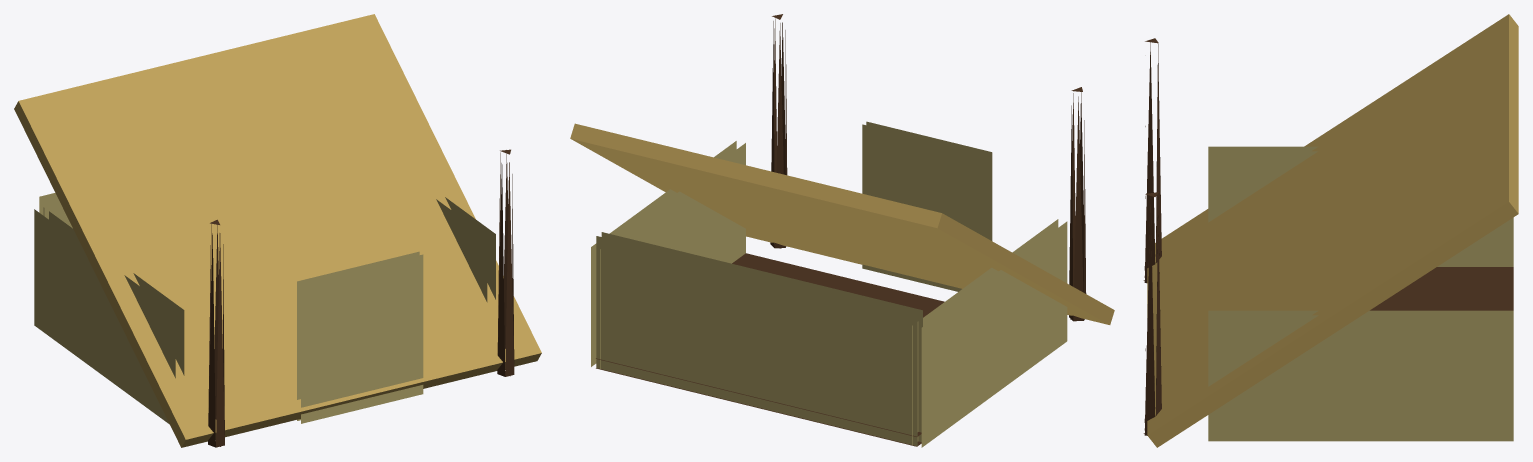
Rendered from prop_quarantine_hut_lod1.glb.
3 views of the same model, side by side, from view 1: azimuth 30°, elevation 25°; view 2: azimuth 150°, elevation 25°; view 3: azimuth 270°, elevation 25° (orthographic). The views are drawn at different scales.
Visible parts, largest first — view 1: prop_quarantine_hut_lod1; view 2: prop_quarantine_hut_lod1; view 3: prop_quarantine_hut_lod1.
Part boxes in pixels (x1,y1,x2,y2): prop_quarantine_hut_lod1: [14, 14, 541, 447]; prop_quarantine_hut_lod1: [570, 14, 1114, 447]; prop_quarantine_hut_lod1: [1143, 14, 1518, 447].
Bounding box in the file's own units: 3.2 × 1.98 × 2.7.
